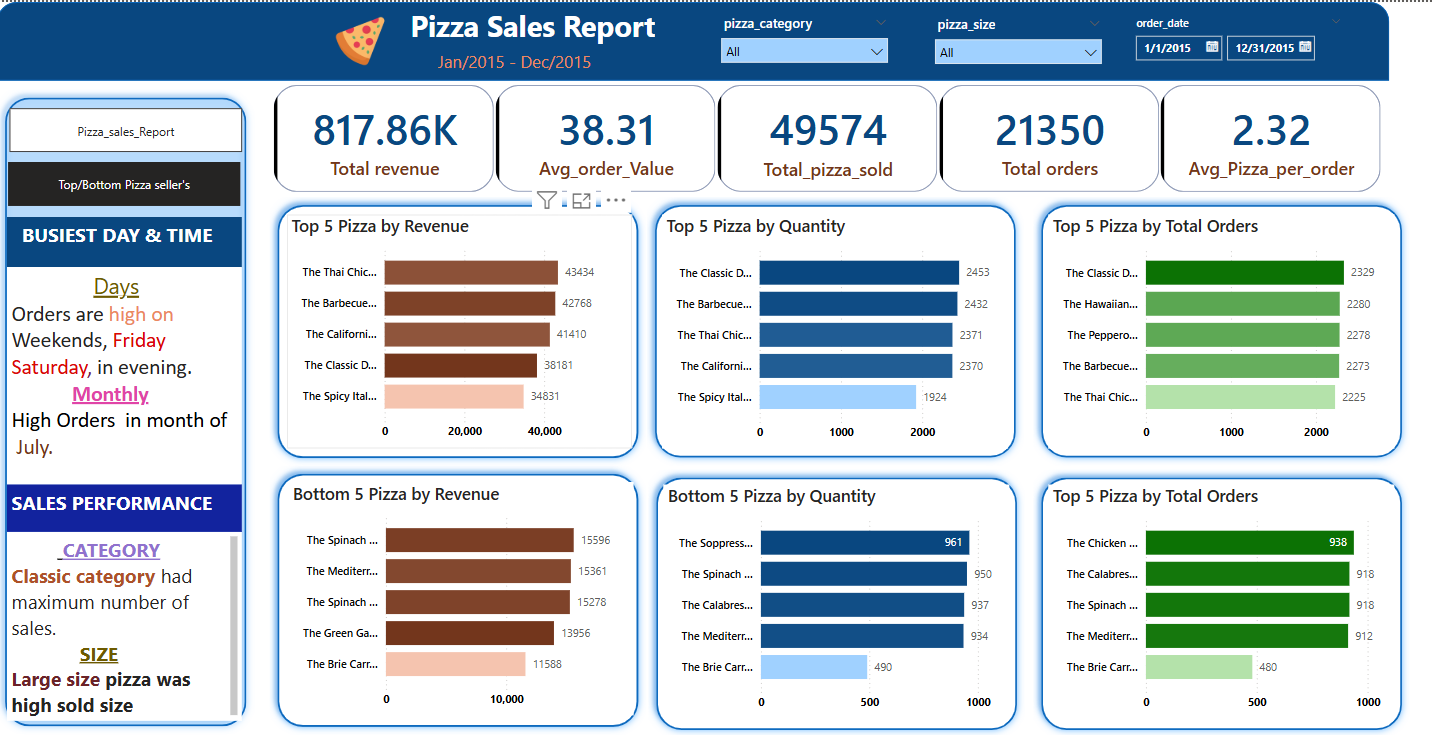

The page's visual inventory and layout, read from the dashboard file:
{"tool":"powerbi","page":{"name":"Top/Bottom Pizza seller's","canvas":[1600,820],"ordinal":1},"visuals":[{"type":"cardVisual","fields":{"Data":["pizza_sales.Total revenue","pizza_sales.Avg_order_Value","pizza_sales.Total_pizza_sold","pizza_sales.Total orders","pizza_sales.Avg_Pizza_per_order"]},"box":[303.8,87.2,1247.1,129.4],"z":0},{"type":"shape","box":[0,0,1551.4,87.7],"z":1000},{"type":"textbox","box":[454.9,0,321.2,55.2],"z":2000},{"type":"textbox","box":[485.5,49.4,196.2,36.3],"z":3000},{"type":"image","box":[372.1,8.7,65.4,69.8],"z":4000},{"type":"shape","box":[303.8,516,420.1,300],"z":5000},{"type":"shape","box":[0,97.5,286.9,718.6],"z":6000},{"type":"textbox","box":[11.1,239.5,261.8,55.7],"z":7000},{"type":"textbox","box":[11.1,295.2,261.8,242],"z":8000},{"type":"textbox","box":[11.1,590.5,261.8,210.3],"z":9000},{"type":"textbox","box":[11.1,537.6,261.8,52.9],"z":10000},{"type":"slicer","fields":{"Values":["pizza_sales.pizza_category"]},"box":[796.5,8.7,206.4,69.8],"z":11000},{"type":"slicer","fields":{"Values":["pizza_sales.order_date"]},"box":[1255.8,10.2,252.9,69.8],"z":12000},{"type":"slicer","fields":{"Values":["pizza_sales.pizza_size"]},"box":[1034.9,10.2,206.4,69.8],"z":13000},{"type":"shape","box":[303.8,216.6,420.1,300],"z":14000},{"type":"shape","box":[723.8,216.6,420.1,299.4],"z":15000},{"type":"shape","box":[1154.1,216.6,420.1,299.4],"z":16000},{"type":"shape","box":[725.3,520.4,420.1,299.4],"z":17000},{"type":"shape","box":[1154.1,520.4,420.1,299.4],"z":18000},{"type":"barChart","title":"Top 5 Pizza by Revenue","fields":{"Category":["pizza_sales.pizza_name"],"Y":["pizza_sales.Total revenue"]},"box":[322.7,236.9,385.2,260.2],"z":19000},{"type":"barChart","title":"Bottom 5 Pizza by Revenue","fields":{"Category":["pizza_sales.pizza_name"],"Y":["pizza_sales.Total revenue"]},"box":[324.1,534.9,385.2,260.2],"z":20000},{"type":"barChart","title":"Top 5 Pizza by Quantity","fields":{"Category":["pizza_sales.pizza_name"],"Y":["Sum(pizza_sales.quantity)"]},"box":[741,236.7,385.9,260.7],"z":21000},{"type":"barChart","title":"Bottom 5 Pizza by Quantity","fields":{"Category":["pizza_sales.pizza_name"],"Y":["Sum(pizza_sales.quantity)"]},"box":[742.7,536.9,385.9,260.7],"z":22000},{"type":"barChart","title":"Top 5 Pizza by Total Orders","fields":{"Category":["pizza_sales.pizza_name"],"Y":["pizza_sales.Total orders"]},"box":[1171.5,236.7,385.9,260.7],"z":23000},{"type":"barChart","title":"Top 5 Pizza by Total Orders","fields":{"Category":["pizza_sales.pizza_name"],"Y":["pizza_sales.Total orders"]},"box":[1171.5,536.9,385.9,260.7],"z":24000},{"type":"pageNavigator","box":[12.7,177.8,258.3,49.4],"z":24001},{"type":"pageNavigator","box":[14.1,118.6,259.7,49.4],"z":24002}]}

Visuals, with their boxes in screenshot pixels (x1, y1, x2, y2), scaled from the page's 1600x820 canvas onto the 1432x735 screenshot:
cardVisual - pizza_sales.Total revenue x pizza_sales.Avg_order_Value: rect(272, 78, 1388, 194)
shape: rect(0, 0, 1389, 79)
textbox: rect(407, 0, 695, 49)
textbox: rect(435, 44, 610, 77)
image: rect(333, 8, 392, 70)
shape: rect(272, 463, 648, 731)
shape: rect(0, 87, 257, 732)
textbox: rect(10, 215, 244, 265)
textbox: rect(10, 265, 244, 482)
textbox: rect(10, 529, 244, 718)
textbox: rect(10, 482, 244, 529)
slicer - pizza_sales.pizza_category: rect(713, 8, 898, 70)
slicer - pizza_sales.order_date: rect(1124, 9, 1350, 72)
slicer - pizza_sales.pizza_size: rect(926, 9, 1111, 72)
shape: rect(272, 194, 648, 463)
shape: rect(648, 194, 1024, 463)
shape: rect(1033, 194, 1409, 463)
shape: rect(649, 466, 1025, 734)
shape: rect(1033, 466, 1409, 734)
"Top 5 Pizza by Revenue" barChart: rect(289, 212, 634, 446)
"Bottom 5 Pizza by Revenue" barChart: rect(290, 479, 635, 713)
"Top 5 Pizza by Quantity" barChart: rect(663, 212, 1009, 446)
"Bottom 5 Pizza by Quantity" barChart: rect(665, 481, 1010, 715)
"Top 5 Pizza by Total Orders" barChart: rect(1048, 212, 1394, 446)
"Top 5 Pizza by Total Orders" barChart: rect(1048, 481, 1394, 715)
pageNavigator: rect(11, 159, 243, 204)
pageNavigator: rect(13, 106, 245, 151)
